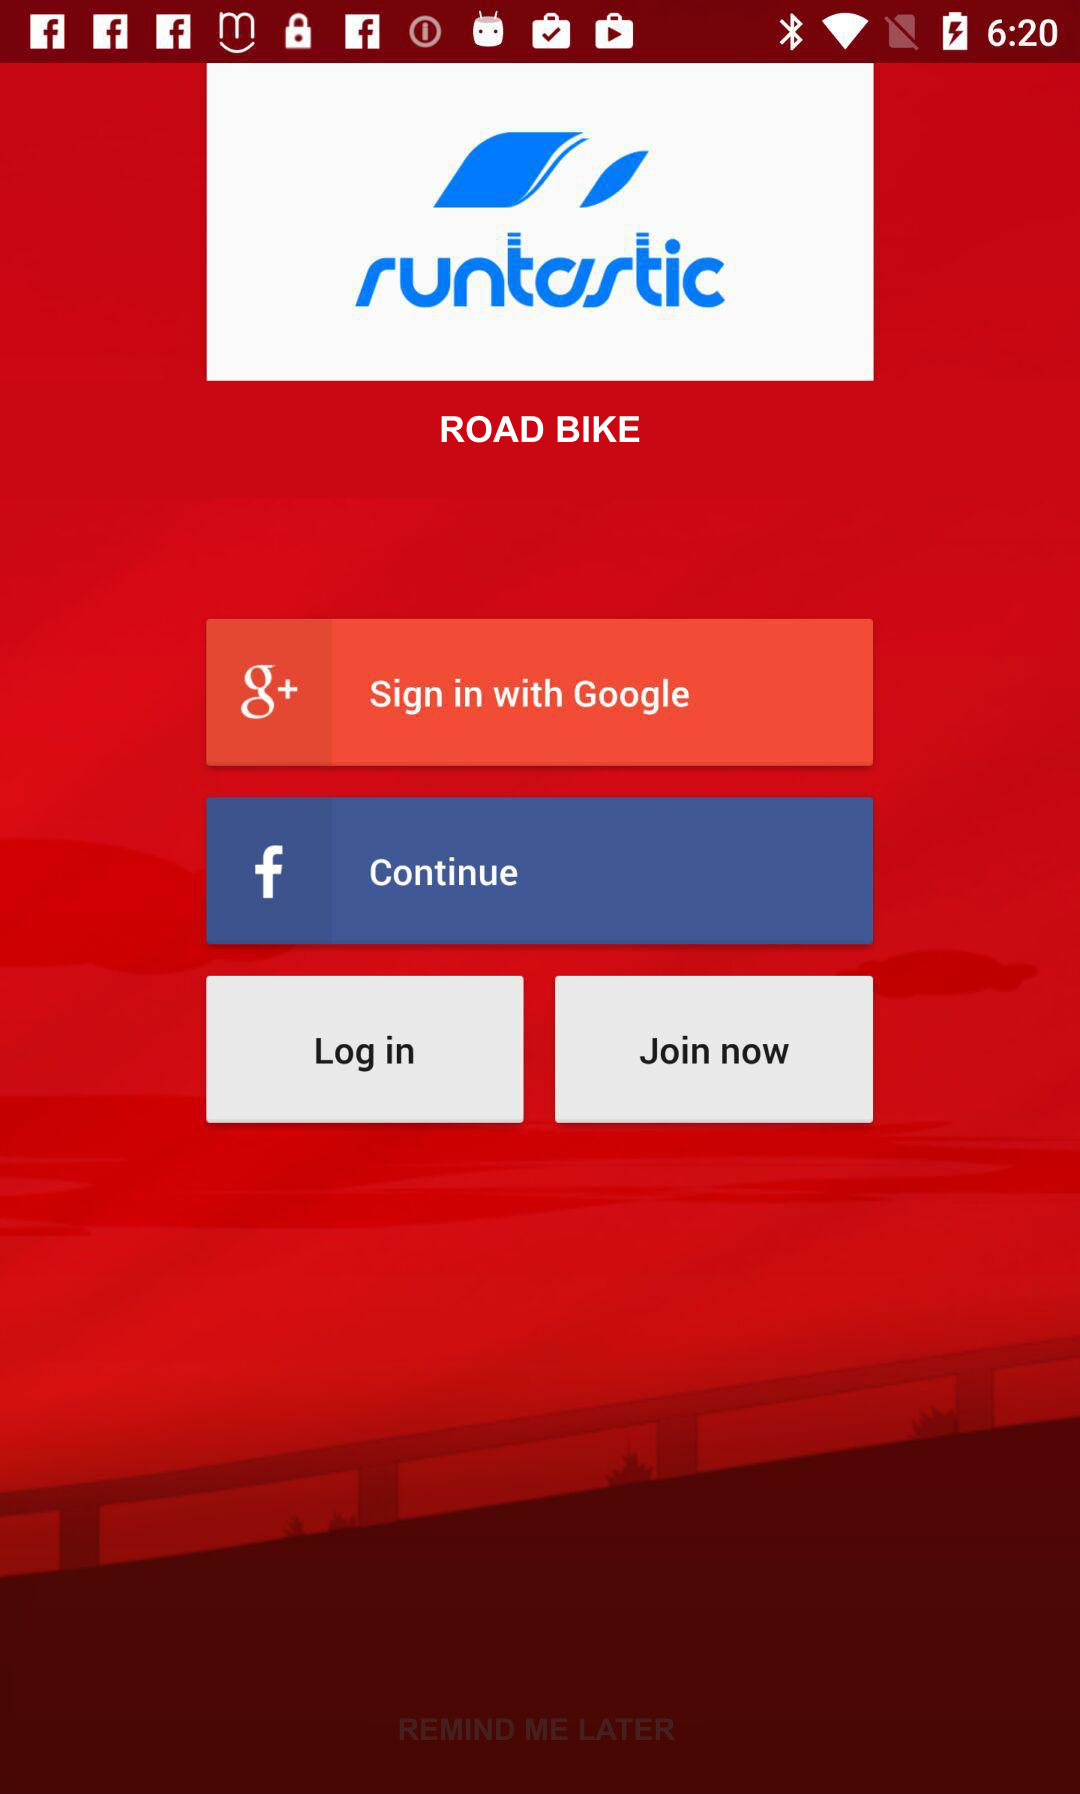Image: (208, 64, 874, 382)
Text: (400, 1718, 675, 1740), (442, 416, 641, 443)
TextButton: (208, 619, 874, 768), (208, 798, 874, 944), (555, 976, 874, 1124), (206, 976, 524, 1124)
UpperTaskBar: (1, 1, 1080, 64)
